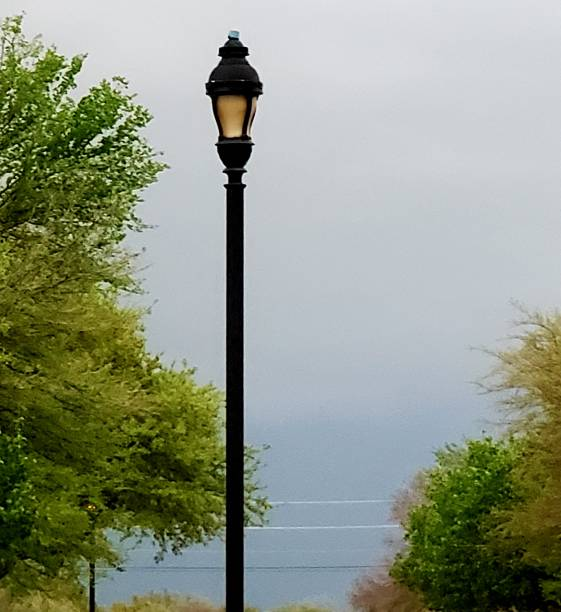light_pole: (222, 180, 246, 608)
